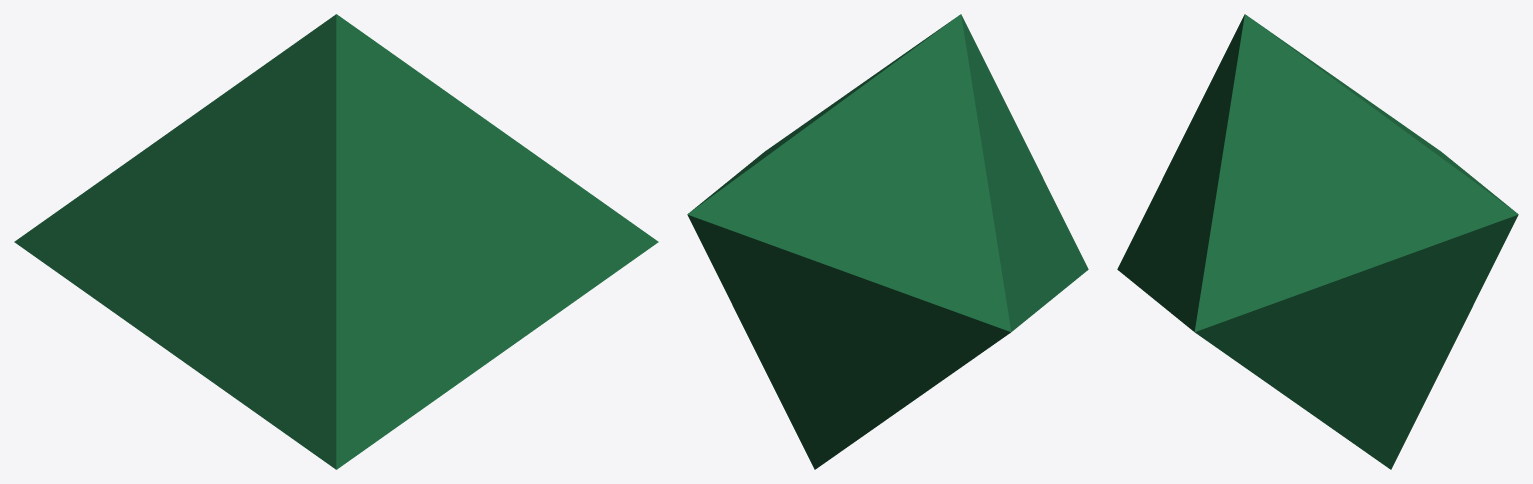
File: octahedron.glb
The picture shows the model from 3 angles, left to right: view 1: azimuth 30°, elevation 25°; view 2: azimuth 150°, elevation 25°; view 3: azimuth 270°, elevation 25°; orthographic projection. The views are drawn at different scales.
Visible parts, largest first — view 1: Octahedron; view 2: Octahedron; view 3: Octahedron.
Boxes of the visible parts, box(x1,y1,x2,y2) form: Octahedron: box(14, 14, 658, 469); Octahedron: box(687, 14, 1088, 469); Octahedron: box(1117, 14, 1518, 469).
Size of the model in its own units: 1.73 by 1.88 by 1.63.
